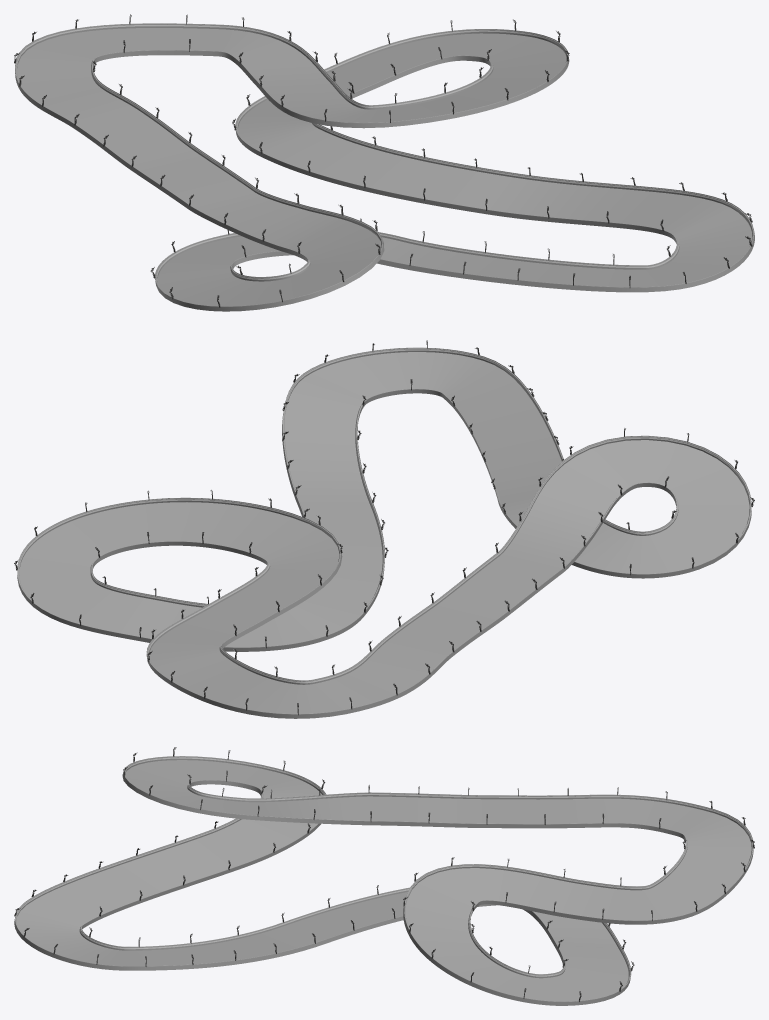
File: Track.fbx
3 views of the same model, one above another, from view 1: azimuth 30°, elevation 25°; view 2: azimuth 150°, elevation 25°; view 3: azimuth 270°, elevation 25° (orthographic). The views are drawn at different scales.
Parts seen in each view (by area): view 1: Track2, MASH3_ReproMesh1, MASH2_ReproMesh1; view 2: Track2, MASH3_ReproMesh1, MASH2_ReproMesh1; view 3: Track2, MASH3_ReproMesh1, MASH2_ReproMesh1.
Boxes of the visible parts, bbox=[...] form: Track2: bbox=[15, 23, 754, 311]; MASH3_ReproMesh1: bbox=[92, 19, 670, 307]; MASH2_ReproMesh1: bbox=[14, 14, 752, 287]; Track2: bbox=[17, 347, 751, 718]; MASH3_ReproMesh1: bbox=[14, 379, 754, 676]; MASH2_ReproMesh1: bbox=[95, 340, 676, 715]; Track2: bbox=[14, 756, 753, 1005]; MASH3_ReproMesh1: bbox=[89, 747, 686, 1001]; MASH2_ReproMesh1: bbox=[14, 770, 754, 973].
Bounding box in the file's own units: 12754 × 1760 × 16788.
